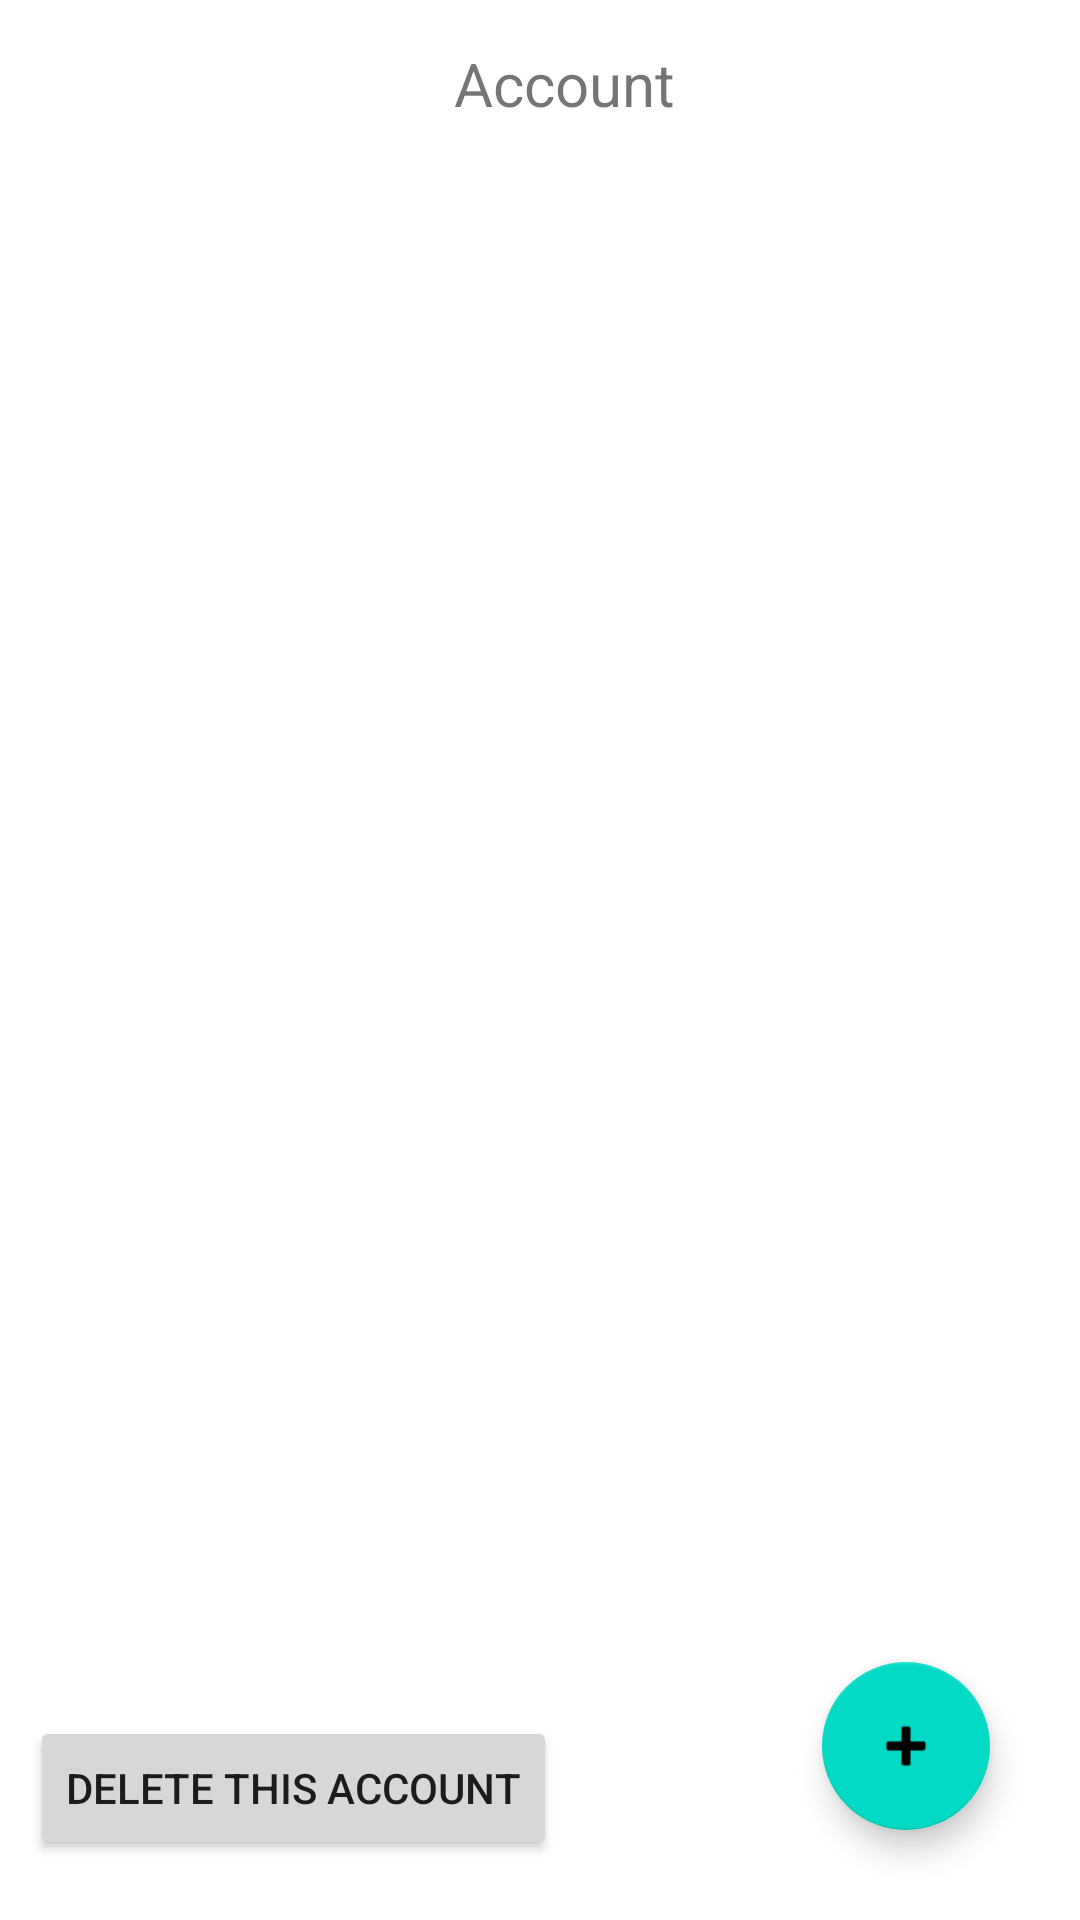

Locate icon controls on the screen. Image size 1080×1920, boxes as {"left": x1, "top": y1, "right": x2, "bottom": y2}.
add: {"left": 822, "top": 1662, "right": 990, "bottom": 1830}
